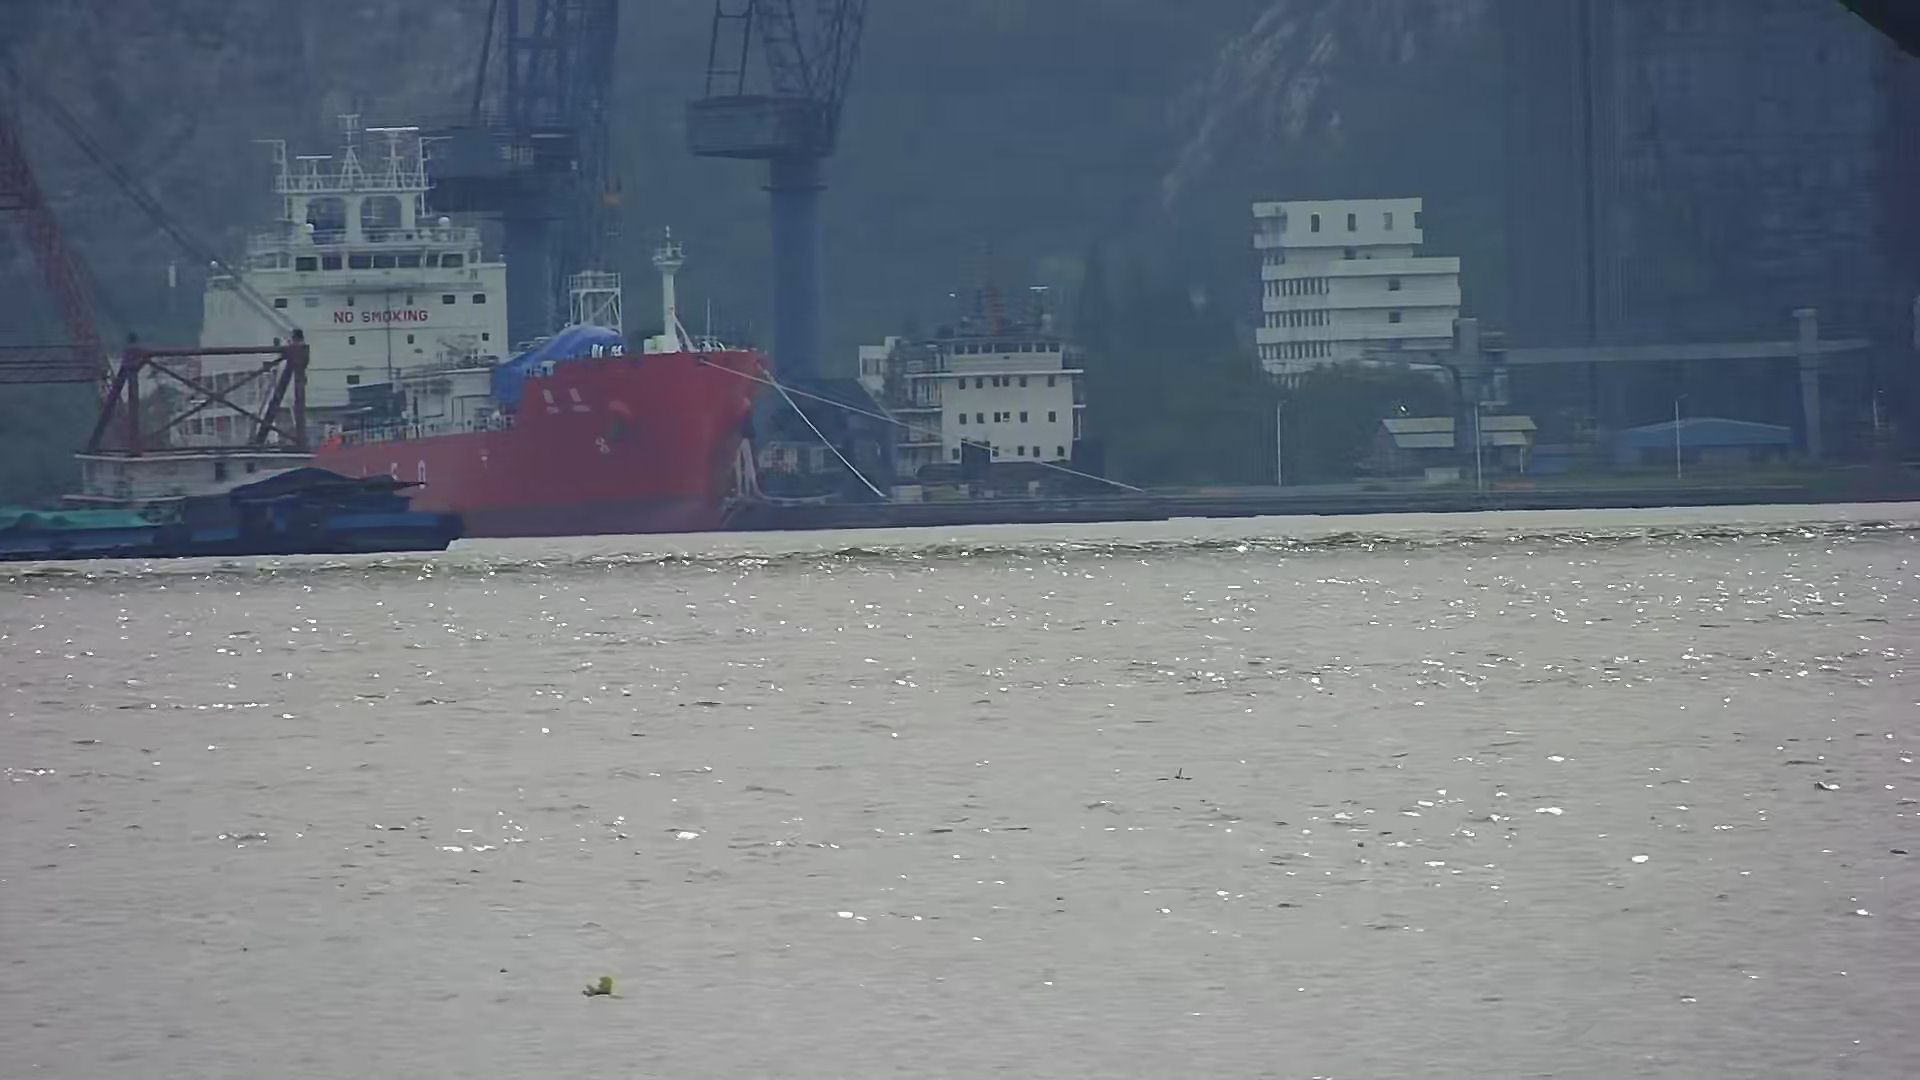ship: (1, 326, 762, 553), (1, 443, 501, 583)
